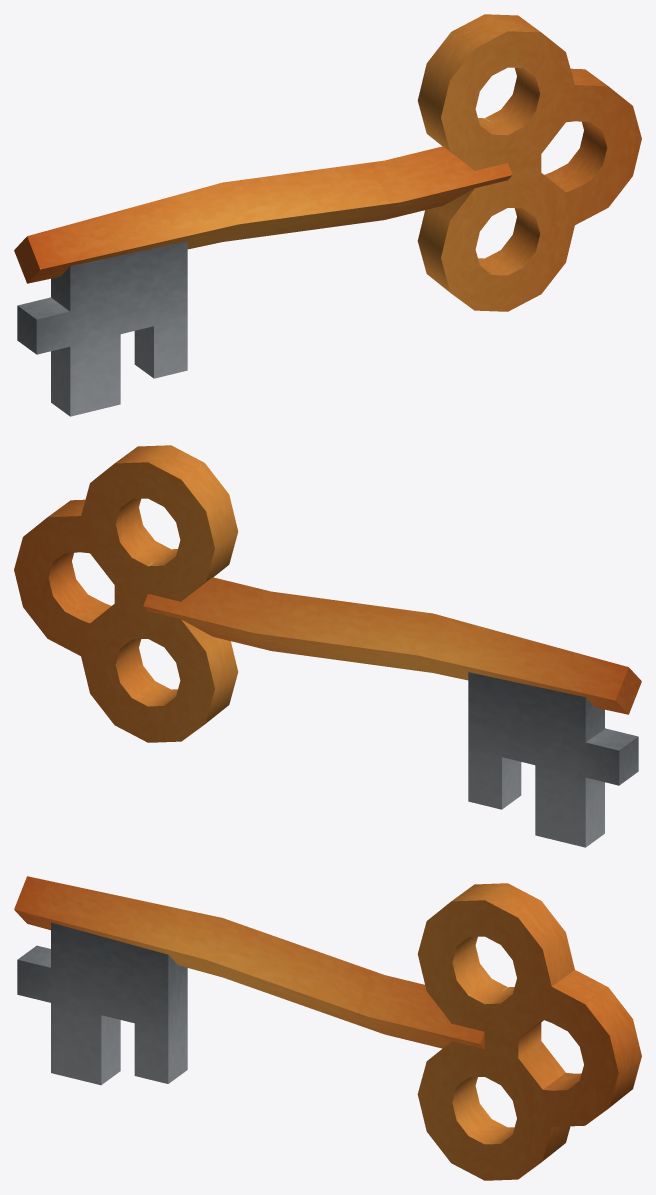
The model's file is Key.fbx.
3 views of the same model, one above another, from view 1: azimuth 30°, elevation 25°; view 2: azimuth 150°, elevation 25°; view 3: azimuth 330°, elevation 25° (orthographic).
Parts seen in each view (by area): view 1: Key; view 2: Key; view 3: Key.
Part boxes in pixels (<box>): Key: <box>14,14,641,416</box>; Key: <box>14,445,641,847</box>; Key: <box>14,876,641,1180</box>.
Bounding box in the file's own units: 216 × 96 × 20.36.
